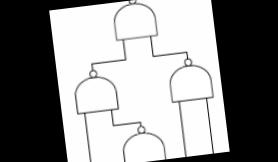nand: (69, 65, 121, 117), (164, 54, 216, 106), (108, 0, 161, 44), (116, 120, 168, 162)
